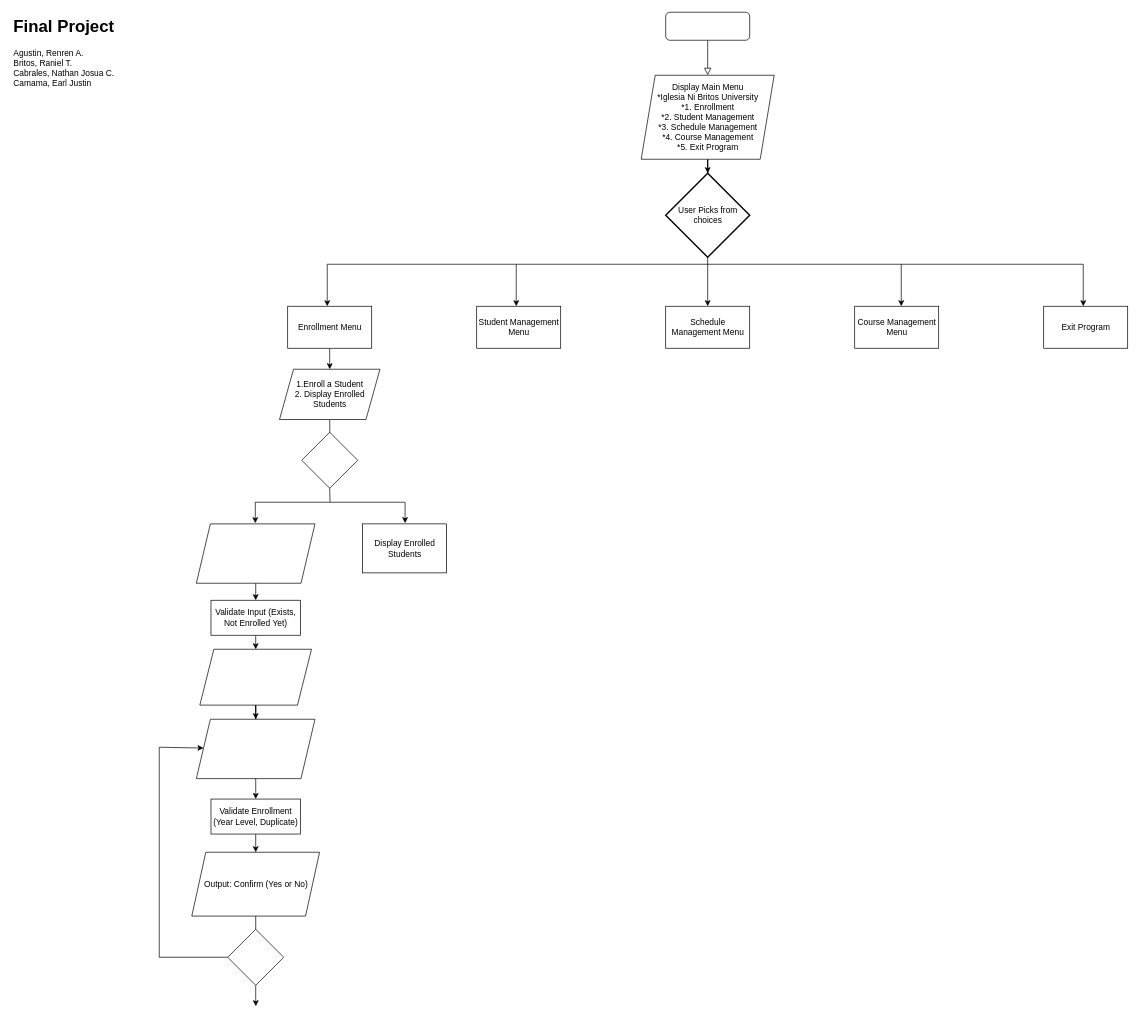
This 1140x1024 diagram has some shape labels left out. The shapes that lost their labels are listed below. From the top down, each one's centre as x and y in pixels, then its label:
At (x=707, y=26): "Start".
At (x=329, y=460): "User picks".
At (x=255, y=553): "Output: Enter Student ID Input: ----".
At (x=255, y=677): "Output: Display Available Courses".
At (x=255, y=749): "Input: Select Courses".
At (x=255, y=957): "Choice".
